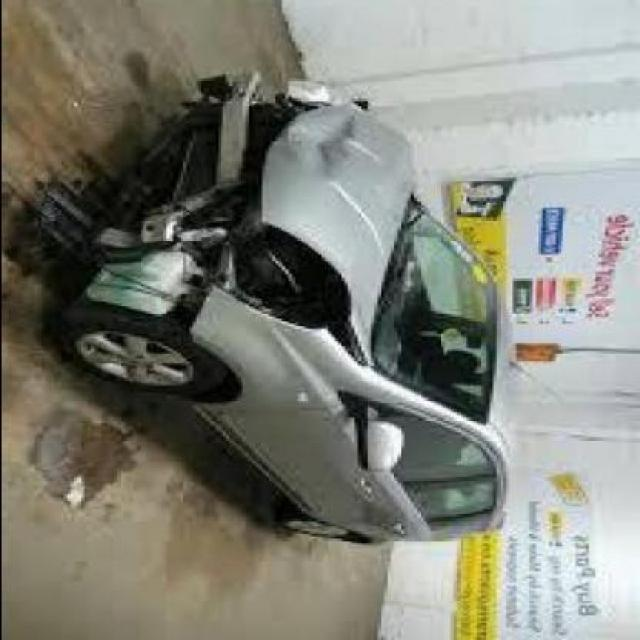damage: (87, 71, 413, 358)
